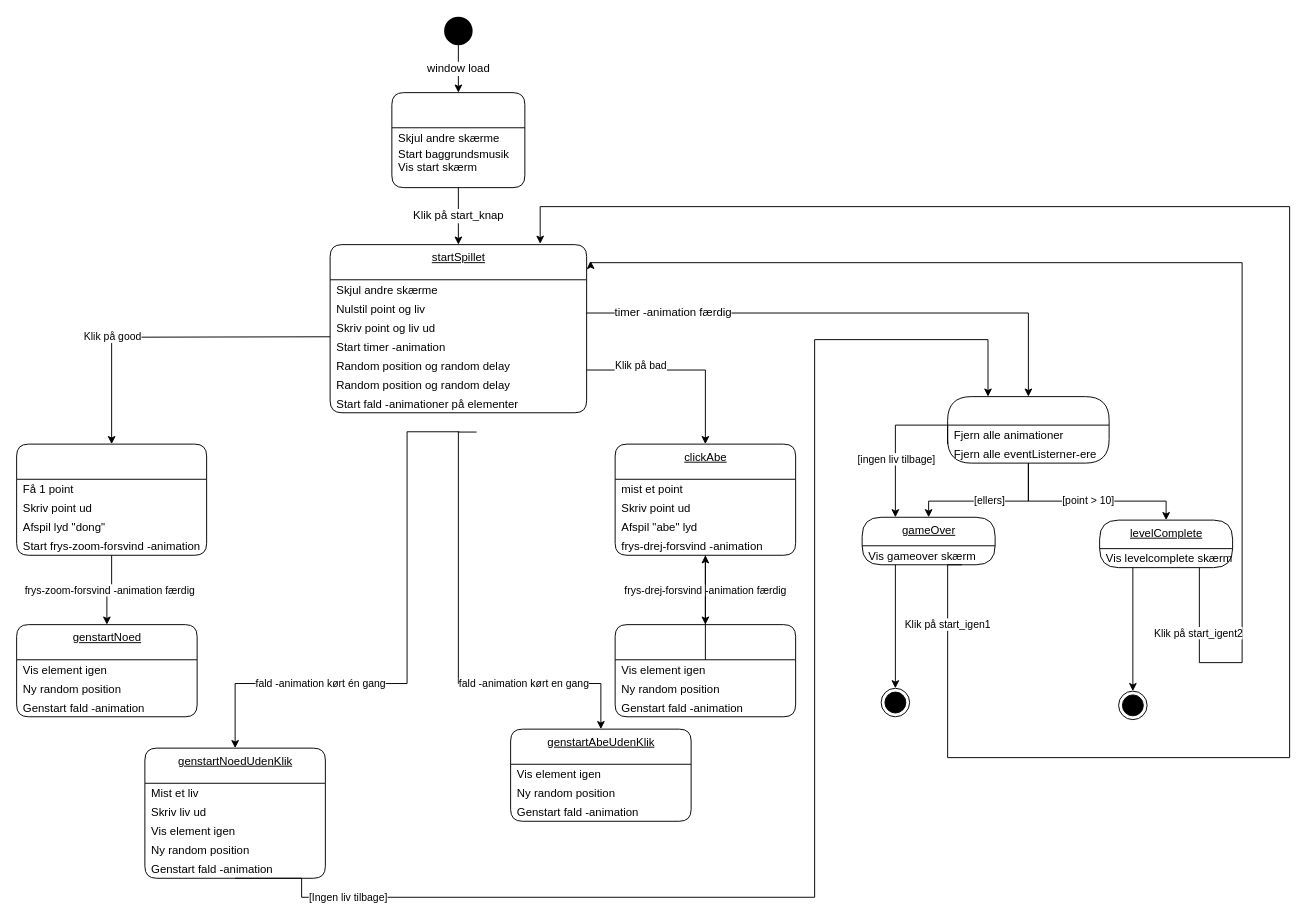
Image size: 1314x922. Some labels were removed from this diagram. The shapes that lost their labels are listed below. From the top down, each one's box as (x1, y1, x2, y2) in pixels, then its label:
(391, 92, 525, 188): sidenVises
(947, 396, 1109, 463): stopSpillet
(16, 443, 207, 555): clickNoed
(614, 624, 796, 717): genstartAbe
